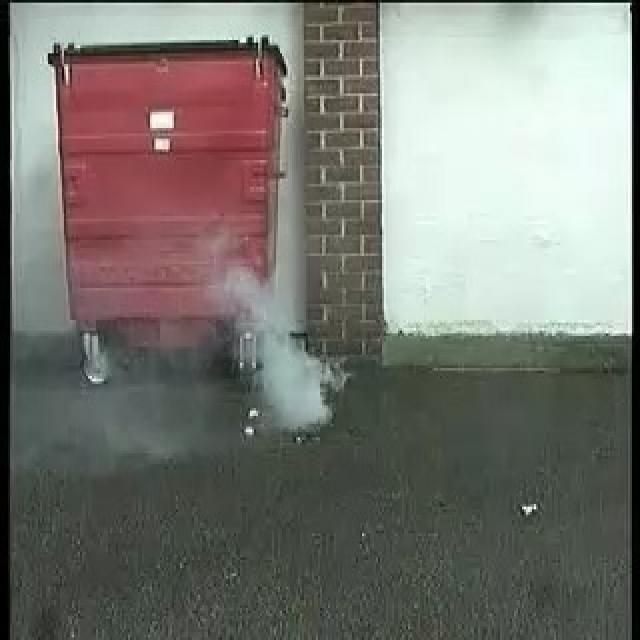smoke: (230, 268, 330, 431)
